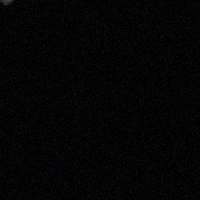chromosome: (0, 0, 49, 5)
